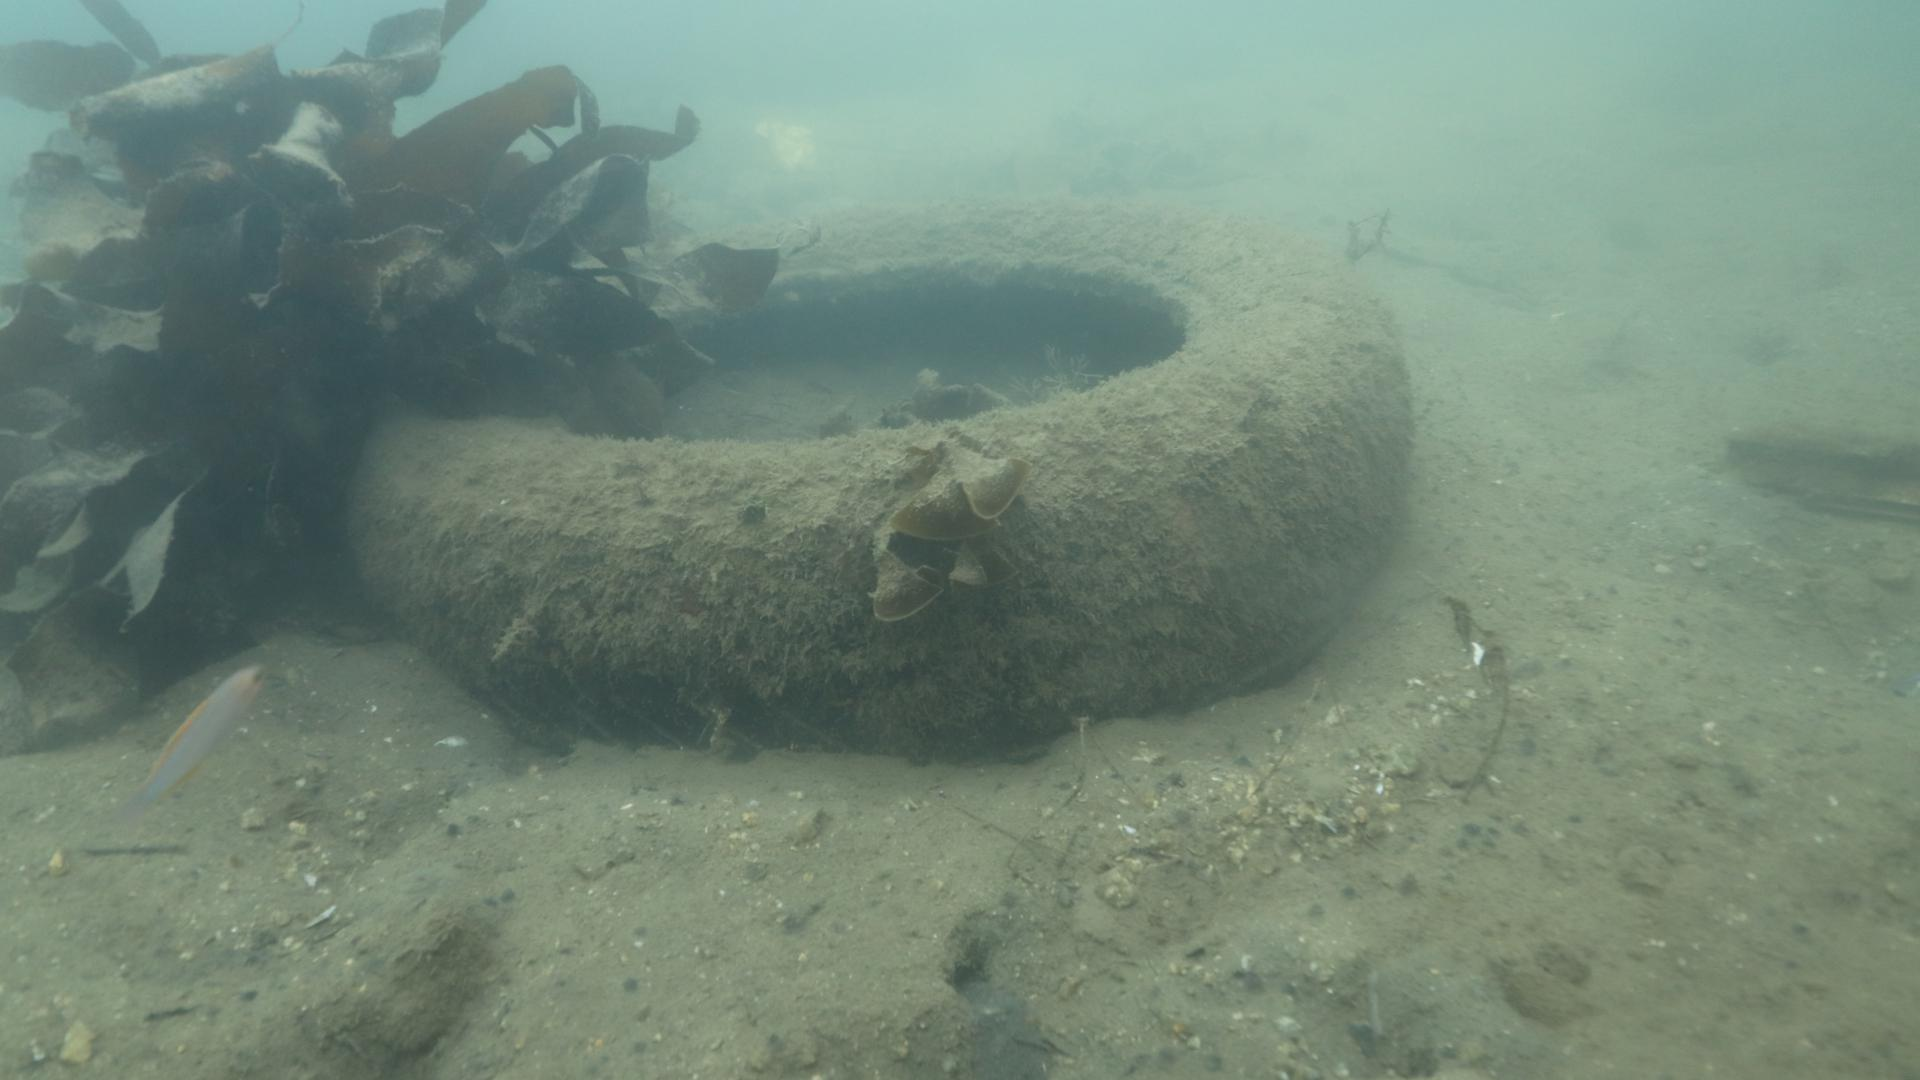tire: (342, 193, 1410, 760)
